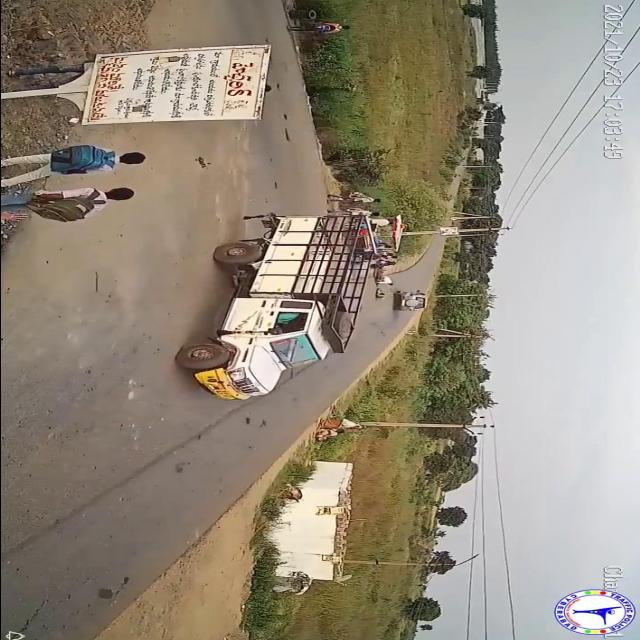accident: (366, 265, 426, 315)
